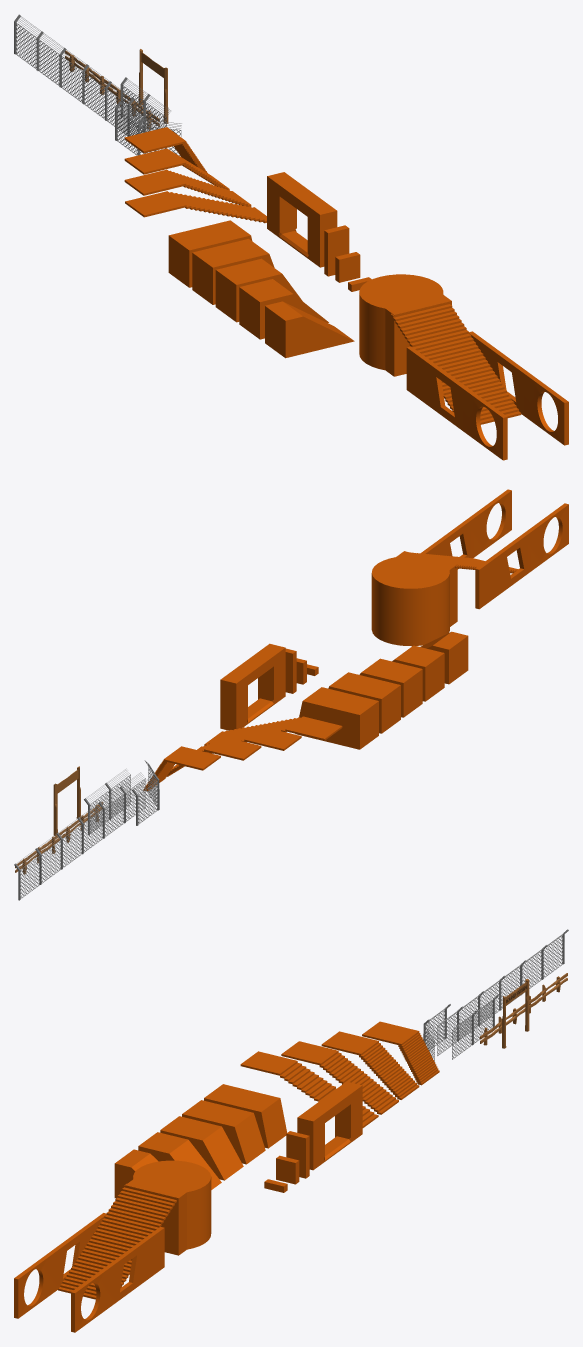
Rendered from assets for testing place.fbx.
The picture shows the model from 3 angles, top to bottom: view 1: azimuth 30°, elevation 25°; view 2: azimuth 150°, elevation 25°; view 3: azimuth 330°, elevation 25°; orthographic projection. The views are drawn at different scales.
Parts seen in each view (by area): view 1: Cube.013, Cube.001, Cube.008, Cube.016, Cube.017, Cube.015, Cube.014, Cube, Cube.012, Cube.002, Cube.003, Cube.007 (+6 smaller); view 2: Cube.013, Cube.001, Cube.008, Cube.017, Cube.015, Cube.014, Cube.012, Cube, Cube.016, Cube.006, Cube.007, Cube.002 (+5 smaller); view 3: Cube.013, Cube.008, Cube.001, Cube.002, Cube.014, Cube.015, Cube.003, Cube.017, Cube, Cube.007, Cube.012, Cube.006 (+6 smaller).
Part boxes in pixels (box(x1,y1,x2,y2)): Cube.013: box(359, 274, 568, 460); Cube.001: box(14, 14, 155, 152); Cube.008: box(267, 172, 337, 267); Cube.016: box(265, 301, 354, 358); Cube.017: box(168, 220, 252, 287); Cube.015: box(192, 239, 274, 304); Cube.014: box(215, 258, 302, 322); Cube: box(125, 191, 266, 223); Cube.012: box(239, 279, 328, 339); Cube.002: box(124, 169, 251, 206); Cube.003: box(124, 148, 229, 189); Cube.007: box(124, 127, 207, 173); Cube.013: box(371, 489, 568, 646); Cube.001: box(14, 772, 145, 900); Cube.008: box(220, 643, 285, 730); Cube.017: box(295, 687, 378, 749); Cube.015: box(328, 672, 400, 733); Cube.014: box(359, 658, 422, 717); Cube.012: box(392, 645, 444, 701); Cube: box(204, 716, 342, 745); Cube.016: box(420, 631, 468, 684); Cube.006: box(84, 768, 130, 835); Cube.007: box(143, 746, 220, 790); Cube.002: box(197, 726, 301, 753); Cube.013: box(14, 1160, 211, 1332); Cube.008: box(297, 1081, 362, 1170); Cube.001: box(437, 929, 568, 1055); Cube.002: box(281, 1041, 398, 1114); Cube.014: box(160, 1116, 243, 1180); Cube.015: box(182, 1100, 265, 1164); Cube.003: box(321, 1031, 419, 1099); Cube.017: box(204, 1084, 287, 1148); Cube: box(240, 1051, 378, 1127); Cube.007: box(362, 1021, 439, 1085); Cube.012: box(138, 1132, 221, 1189); Cube.006: box(452, 994, 498, 1059).
Size of the model in its own units: 20015 by 7962 by 121391.
